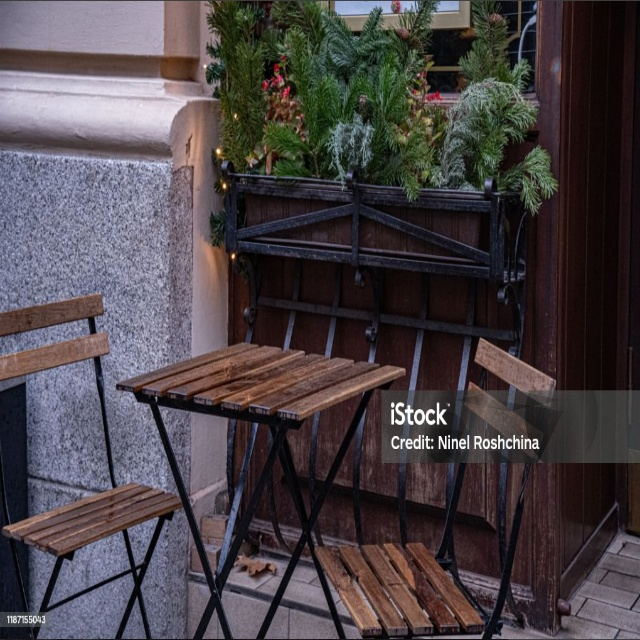obstacle: (115, 330, 405, 629), (309, 334, 557, 630), (4, 290, 186, 627)
